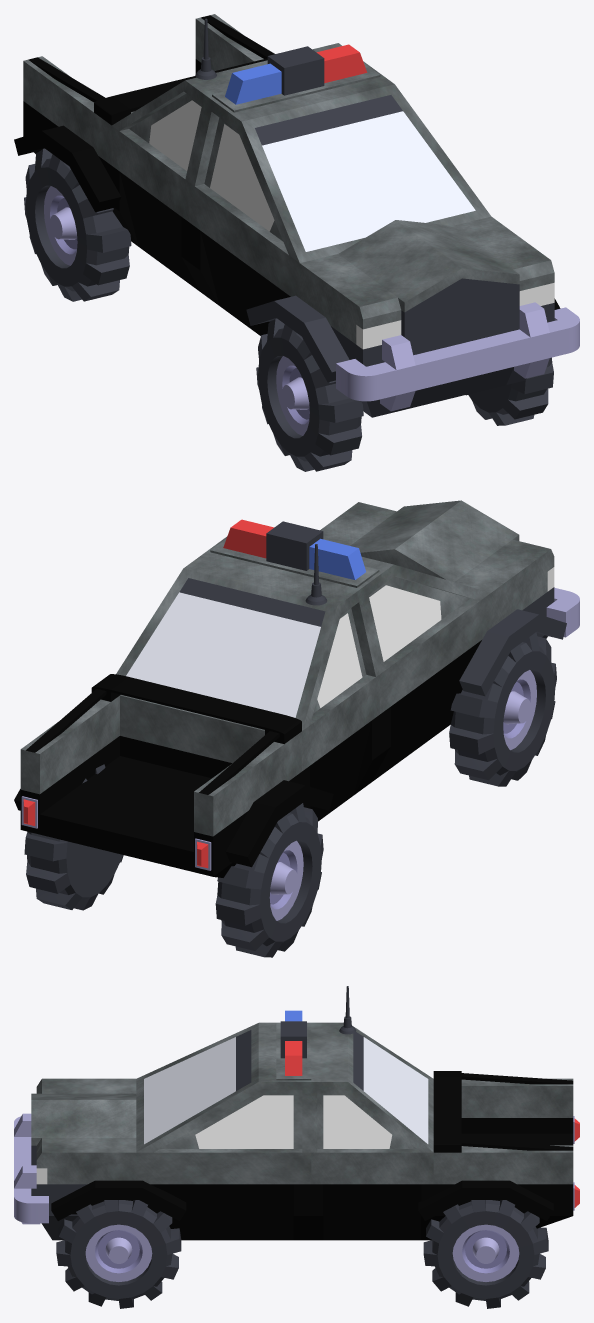
Rendered from PoliceCar.fbx.
The picture shows the model from 3 angles, top to bottom: view 1: azimuth 30°, elevation 25°; view 2: azimuth 150°, elevation 25°; view 3: azimuth 270°, elevation 25°; orthographic projection. The views are drawn at different scales.
Parts seen in each view (by area): view 1: mergedBlocks; view 2: mergedBlocks; view 3: mergedBlocks.
Boxes of the visible parts, left/top/right/bottom form: mergedBlocks: left=14, top=14, right=579, bottom=471; mergedBlocks: left=14, top=500, right=579, bottom=957; mergedBlocks: left=14, top=986, right=579, bottom=1308.
Bounding box in the file's own units: 12.16 × 16.38 × 32.38.
Materials: 9 (1 with a texture image).
